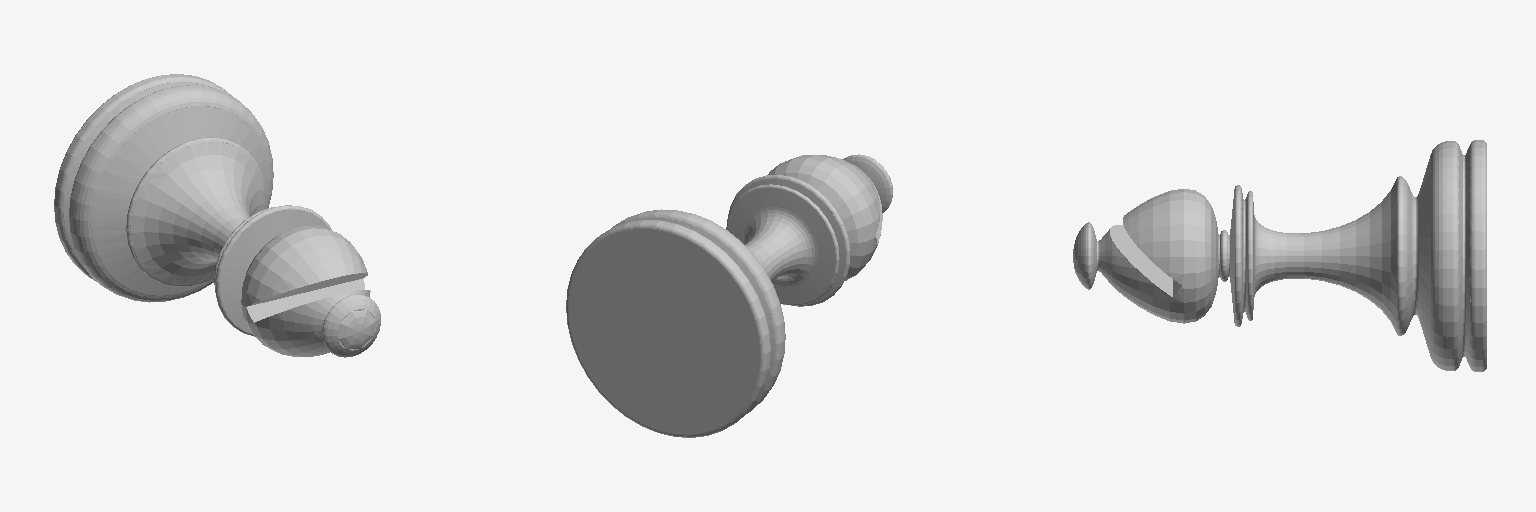
The model's file is chessPhon.obj.
3 views of the same model, side by side, from view 1: azimuth 30°, elevation 25°; view 2: azimuth 150°, elevation 25°; view 3: azimuth 270°, elevation 25° (orthographic).
Parts seen in each view (by area): view 1: <OFFRoot> 메시; view 2: <OFFRoot> 메시; view 3: <OFFRoot> 메시.
Boxes of the visible parts, x1=… form: <OFFRoot> 메시: x1=54, y1=74, x2=380, y2=357; <OFFRoot> 메시: x1=566, y1=154, x2=892, y2=437; <OFFRoot> 메시: x1=1073, y1=140, x2=1486, y2=371.
Bounding box in the file's own units: 0.5311 × 0.5298 × 0.95.